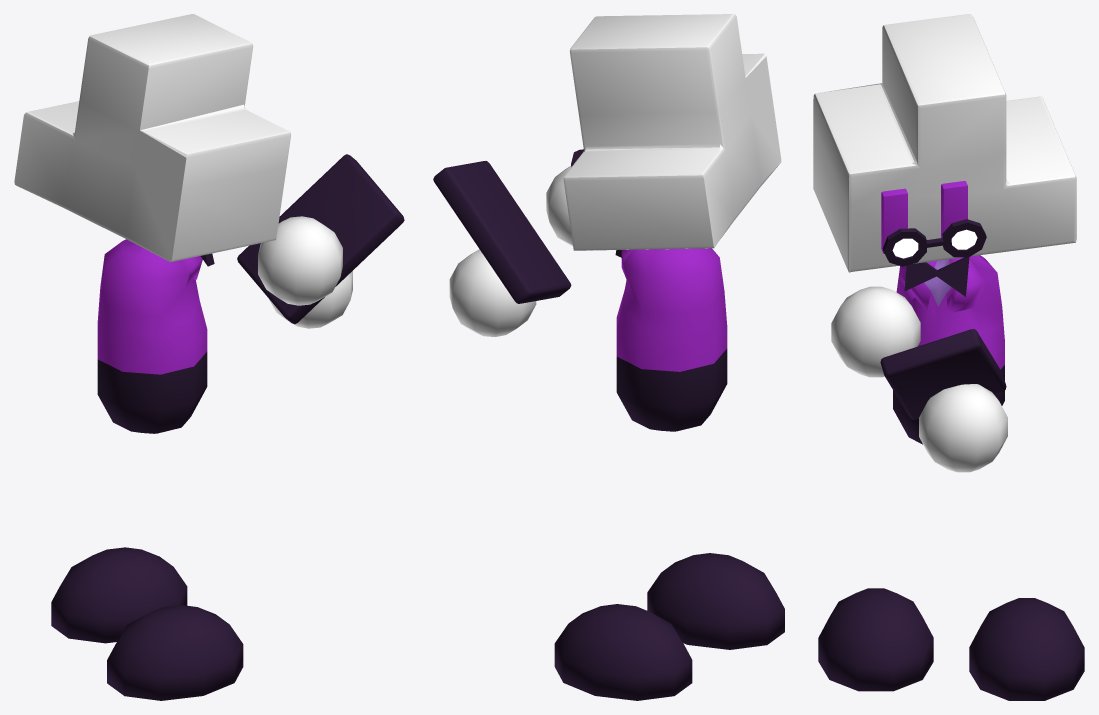
The model's file is mrpodium.glb.
The picture shows the model from 3 angles, left to right: view 1: azimuth 30°, elevation 25°; view 2: azimuth 150°, elevation 25°; view 3: azimuth 270°, elevation 25°; orthographic projection. The views are drawn at different scales.
Parts seen in each view (by area): view 1: Cube, Cylinder, Sphere.002, Sphere.003, Cube.005, Sphere, Sphere.001; view 2: Cube, Cylinder, Sphere.003, Sphere.002, Cube.005, Sphere.001, Sphere; view 3: Cube, Sphere.002, Sphere.003, Cylinder, Sphere.001, Cube.005, Sphere, Cylinder.001, Cube.004, Cube.002, Cube.001.
Part boxes in pixels (box(x1,y1,x2,y2)): Cube: box(14, 14, 290, 262); Cylinder: box(97, 239, 207, 433); Sphere.002: box(107, 605, 243, 700); Sphere.003: box(51, 547, 187, 643); Cube.005: box(237, 154, 404, 324); Sphere: box(258, 216, 342, 305); Sphere.001: box(269, 271, 352, 328); Cube: box(563, 14, 781, 250); Cylinder: box(616, 248, 727, 431); Sphere.003: box(554, 604, 692, 700); Sphere.002: box(647, 553, 784, 649); Cube.005: box(433, 161, 571, 303); Sphere.001: box(449, 249, 536, 336); Sphere: box(546, 166, 592, 250); Cube: box(813, 14, 1076, 272); Sphere.002: box(818, 588, 933, 691); Sphere.003: box(969, 598, 1084, 700); Cylinder: box(893, 255, 1004, 444); Sphere.001: box(919, 384, 1007, 472); Cube.005: box(880, 329, 1006, 419); Sphere: box(831, 286, 920, 377); Cylinder.001: box(882, 219, 986, 266); Cube.004: box(904, 257, 969, 296); Cube.002: box(881, 188, 907, 253); Cube.001: box(941, 181, 967, 237).
Size of the model in its own units: 2.01 by 3.77 by 1.47.
